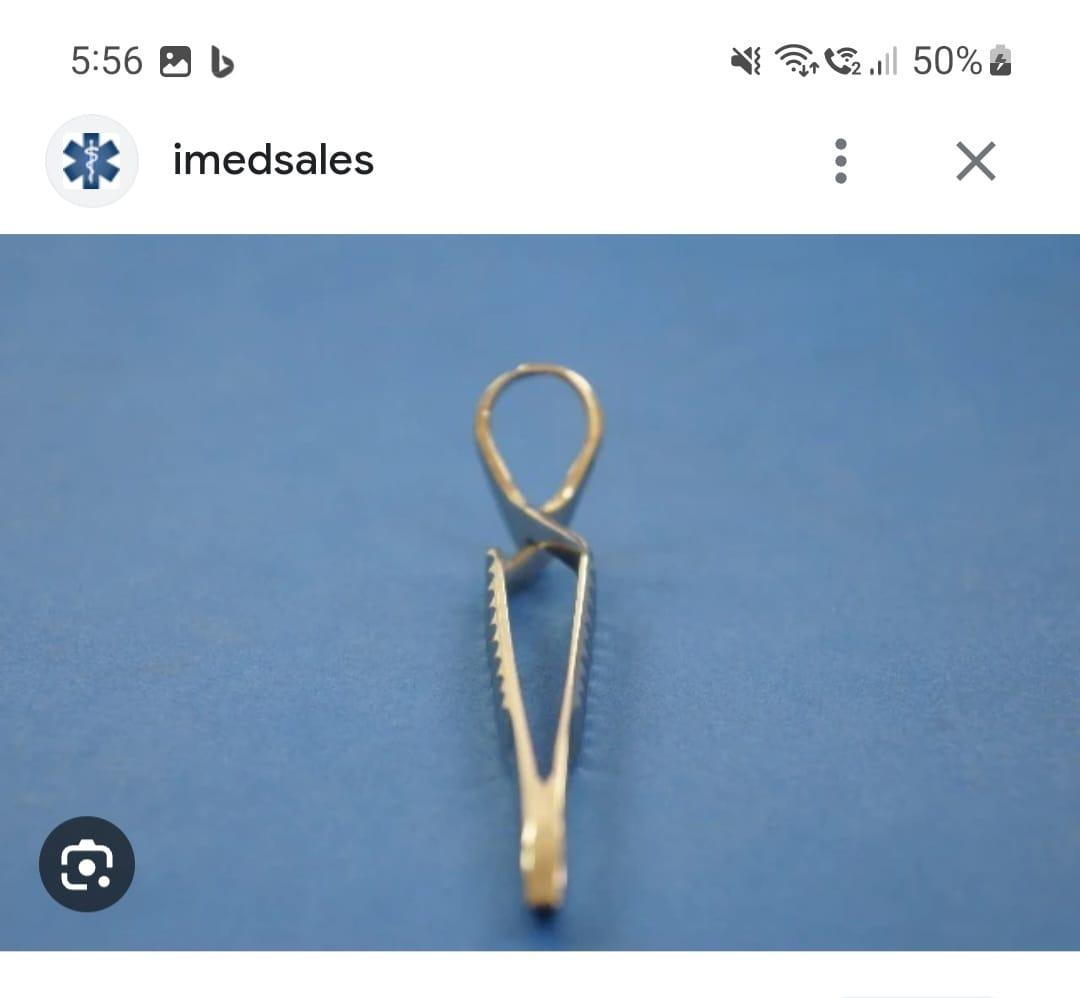Jones Towel Clamp: (447, 351, 627, 926)
